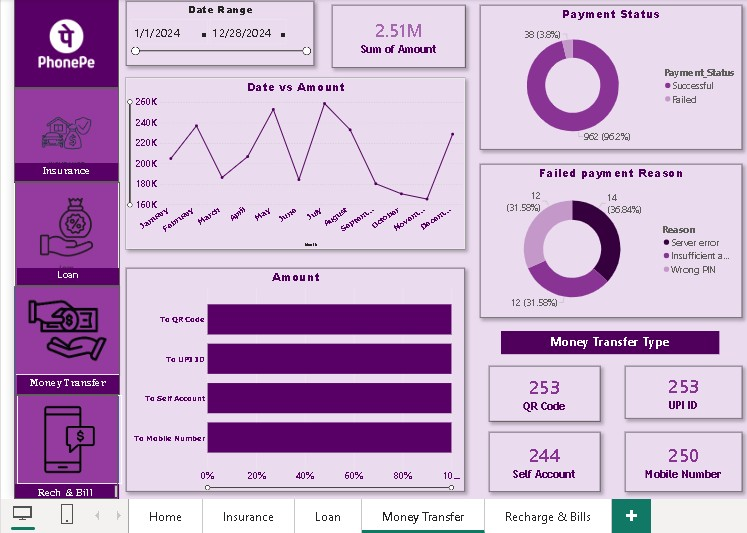

This screenshot's page, from the dashboard's own definition file:
{"tool":"powerbi","page":{"name":"Money Transfer","canvas":[2253,1532],"ordinal":3},"visuals":[{"type":"shape","box":[0,563.8,321.7,327.8],"z":0},{"type":"shape","box":[0,891.6,321.7,321.7],"z":1000},{"type":"shape","box":[0,0,321.7,315.6],"z":2000},{"type":"shape","box":[0,272.7,321.7,321.7],"z":3000},{"type":"shape","box":[0,1213.3,321.7,318.7],"z":4000},{"type":"image","box":[0,0,321.7,272.7],"z":5000},{"type":"image","box":[0,560.7,321.7,318.7],"z":6000},{"type":"image","box":[0,272.7,321.7,291.1],"z":7000},{"type":"image","box":[3.1,879.4,321.7,272.7],"z":8000},{"type":"image","box":[9.2,1213.3,321.7,272.7],"z":9000},{"type":"slicer","title":"Date Range","fields":{"Values":["Money_Transfer.Date"]},"box":[344,6.2,576.4,198.3],"z":10000},{"type":"cardVisual","title":"Date","fields":{"Data":["Sum(Money_Transfer.Amount)"]},"box":[973.1,18.6,409.1,192.1],"z":11000},{"type":"donutChart","title":"Payment Status","fields":{"Category":["Money_Transfer.Payment_Status"],"Y":["CountNonNull(Money_Transfer.Payment_Status)"]},"box":[1428.7,18.6,802.7,443.2],"z":12000},{"type":"lineChart","title":"Date vs Amount","fields":{"Category":["Money_Transfer.Date.Variation.Date Hierarchy.Month"],"Y":["Sum(Money_Transfer.Amount)"]},"box":[344,241.7,1038.2,523.7],"z":13000},{"type":"hundredPercentStackedBarChart","title":"Amount","fields":{"Category":["Money_Transfer.Transfer_Type"],"Y":["Sum(Money_Transfer.Amount)"]},"box":[344,824.3,1038.2,684.9],"z":14000},{"type":"textbox","box":[0,502.5,321.7,61.3],"z":15000},{"type":"textbox","box":[9.2,1152.1,312.5,61.3],"z":16000},{"type":"textbox","box":[0,1486,321.7,46],"z":17000},{"type":"textbox","box":[9.2,824.2,312.5,55.2],"z":18000},{"type":"actionButton","box":[0,0,321.7,272.7],"z":19000},{"type":"actionButton","box":[0,272.7,321.7,288],"z":20000},{"type":"actionButton","box":[3.1,560.7,321.7,318.7],"z":21000},{"type":"actionButton","box":[3.1,879.4,321.7,334],"z":22000},{"type":"actionButton","box":[0,1213.3,318.7,318.7],"z":23000},{"type":"donutChart","title":"Failed payment Reason","fields":{"Category":["Money_Transfer.Reason"],"Y":["CountNonNull(Money_Transfer.Reason)"]},"box":[1428.7,505.1,802.7,471.1],"z":24000},{"type":"cardVisual","title":"Date","fields":{"Data":["CountNonNull(Money_Transfer.Transfer_Type)"]},"box":[1456.5,1125,340.9,170.4],"z":25000},{"type":"cardVisual","title":"Date","fields":{"Data":["CountNonNull(Money_Transfer.Transfer_Type)"]},"box":[1871.8,1125,359.5,161.1],"z":26000},{"type":"cardVisual","title":"Date","fields":{"Data":["CountNonNull(Money_Transfer.Transfer_Type)"]},"box":[1871.8,1326.4,359.5,182.8],"z":27000},{"type":"cardVisual","title":"Date","fields":{"Data":["CountNonNull(Money_Transfer.Transfer_Type)"]},"box":[1456.5,1326.4,340.9,182.8],"z":28000},{"type":"textbox","box":[1490.6,1016.5,669.4,71.3],"z":29000}]}

Visuals, with their boxes on the page's 2253x1532 design canvas (x1, y1, x2, y2). These are canvas units, not pixel positions in the 747x533 screenshot, which may show the page scaled, cropped or inside an application window:
shape: x1=0, y1=564, x2=322, y2=892
shape: x1=0, y1=892, x2=322, y2=1213
shape: x1=0, y1=0, x2=322, y2=316
shape: x1=0, y1=273, x2=322, y2=594
shape: x1=0, y1=1213, x2=322, y2=1532
image: x1=0, y1=0, x2=322, y2=273
image: x1=0, y1=561, x2=322, y2=879
image: x1=0, y1=273, x2=322, y2=564
image: x1=3, y1=879, x2=325, y2=1152
image: x1=9, y1=1213, x2=331, y2=1486
"Date Range" slicer: x1=344, y1=6, x2=920, y2=204
"Date" cardVisual: x1=973, y1=19, x2=1382, y2=211
"Payment Status" donutChart: x1=1429, y1=19, x2=2231, y2=462
"Date vs Amount" lineChart: x1=344, y1=242, x2=1382, y2=765
"Amount" hundredPercentStackedBarChart: x1=344, y1=824, x2=1382, y2=1509
textbox: x1=0, y1=502, x2=322, y2=564
textbox: x1=9, y1=1152, x2=322, y2=1213
textbox: x1=0, y1=1486, x2=322, y2=1532
textbox: x1=9, y1=824, x2=322, y2=879
actionButton: x1=0, y1=0, x2=322, y2=273
actionButton: x1=0, y1=273, x2=322, y2=561
actionButton: x1=3, y1=561, x2=325, y2=879
actionButton: x1=3, y1=879, x2=325, y2=1213
actionButton: x1=0, y1=1213, x2=319, y2=1532
"Failed payment Reason" donutChart: x1=1429, y1=505, x2=2231, y2=976
"Date" cardVisual: x1=1456, y1=1125, x2=1797, y2=1295
"Date" cardVisual: x1=1872, y1=1125, x2=2231, y2=1286
"Date" cardVisual: x1=1872, y1=1326, x2=2231, y2=1509
"Date" cardVisual: x1=1456, y1=1326, x2=1797, y2=1509
textbox: x1=1491, y1=1016, x2=2160, y2=1088
